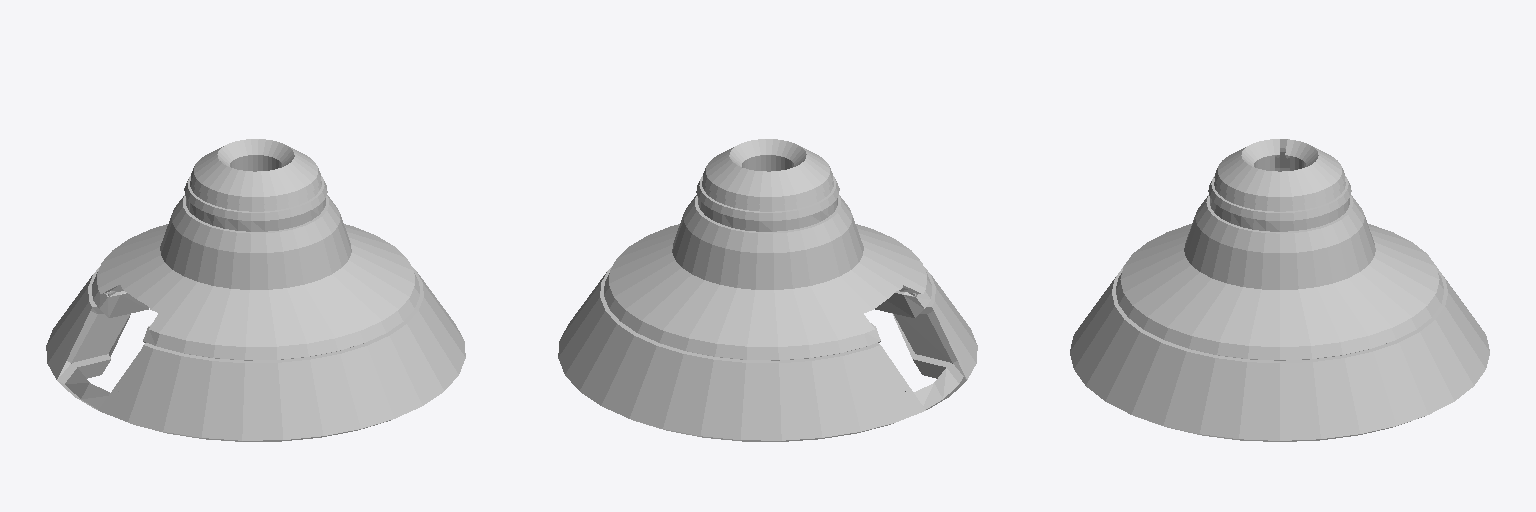
The model's file is laser_top.obj.
3 renders of one model, left to right at view 1: azimuth 30°, elevation 25°; view 2: azimuth 150°, elevation 25°; view 3: azimuth 270°, elevation 25°, orthographic.
Visible parts, largest first — view 1: canon_laser; view 2: canon_laser; view 3: canon_laser.
Boxes of the visible parts, <box> form: canon_laser: <box>46,139,465,441</box>; canon_laser: <box>558,139,977,441</box>; canon_laser: <box>1070,139,1489,441</box>.
Size of the model in its own units: 13.69 by 7.24 by 13.69.